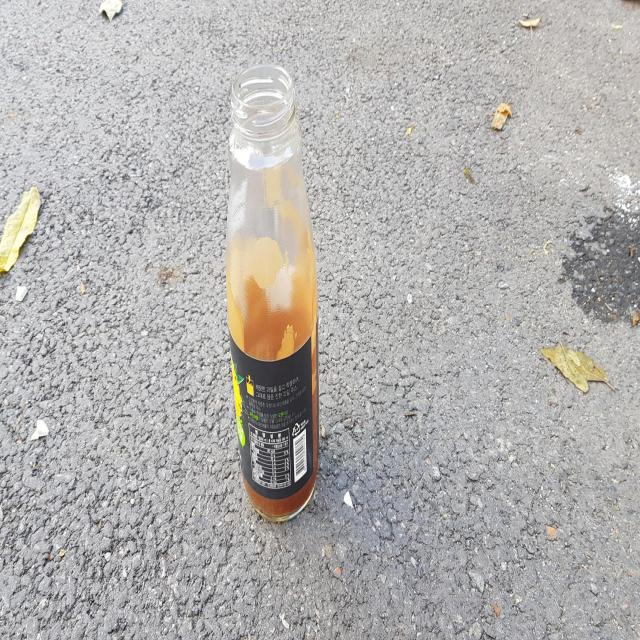glass: (226, 66, 319, 521)
